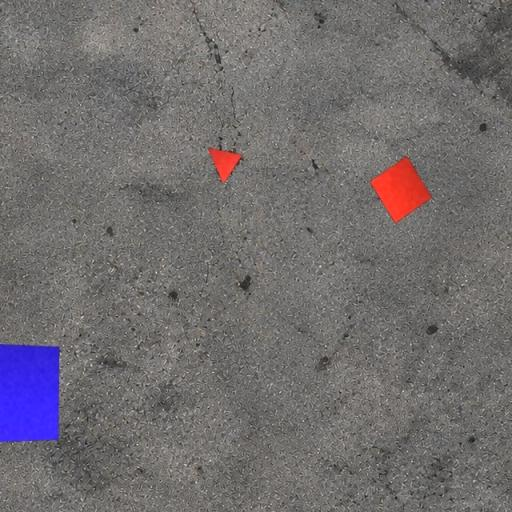BLUE_SQUARE: (0, 342, 60, 444)
RED_SQUARE: (369, 155, 433, 224)
